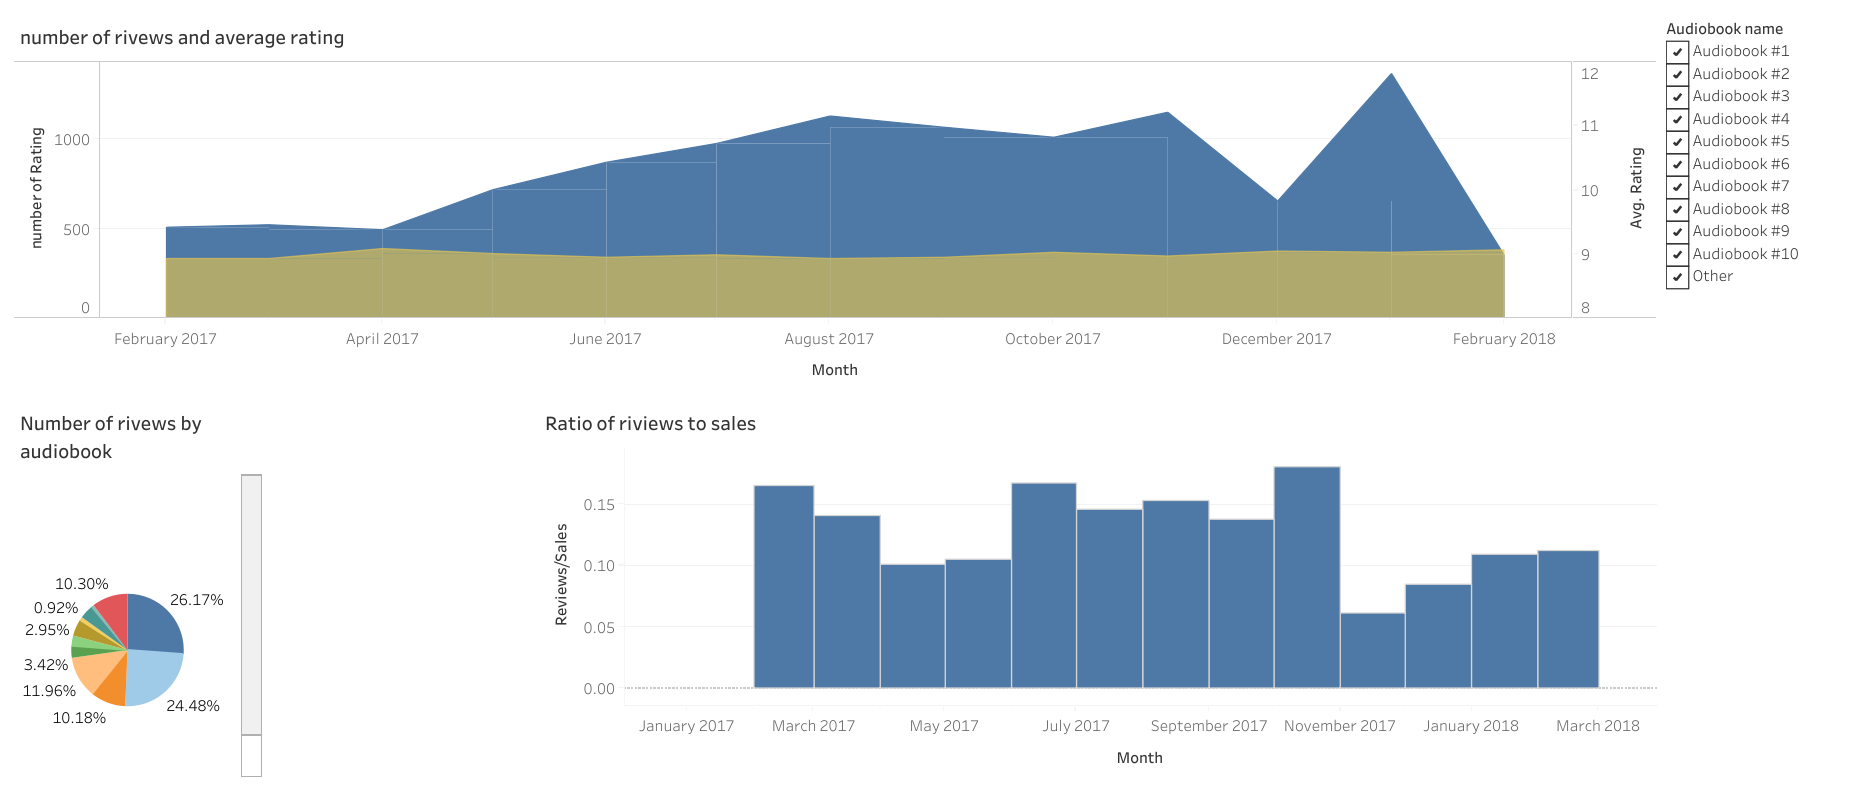

Layout of this report page (visuals, bound fields, positions):
{"tool":"tableau","page":{"name":"Dashboard 1","canvas":[1000,1000],"units":"permille","ordinal":0},"visuals":[{"type":"worksheet","title":"chart 1","mark":"Area","rows":["Rating","Rating"],"cols":["Review Date"],"box":[11.5,9.4,746.8,490.6]},{"type":"filter","title":"pie chart 1","param":"[federated.0k44szy0wn37w310qkmq012pbpx9].[none:Audiobook name:nk]","box":[758.3,9.4,230.2,381.9]},{"type":"worksheet","title":"pie chart 1","mark":"Pie","box":[11.5,500,237.4,490.6]},{"type":"worksheet","title":"Sheet 7","mark":"Bar","rows":["Calculation_928023056775417867"],"cols":["Date of Purchase"],"box":[248.9,500,509.4,490.6]}]}

Visuals, with their boxes on the dashboard's canvas, which has no fixed pixel size, in thousandths of its width and height (x1, y1, x2, y2). These are canvas units, not pixel positions in the 1870x790 screenshot, which may show the page scaled, cropped or inside an application window:
"chart 1" worksheet (Area marks): pyautogui.locateOnScreen(12, 9, 758, 500)
"pie chart 1" filter: pyautogui.locateOnScreen(758, 9, 988, 391)
"pie chart 1" worksheet (Pie marks): pyautogui.locateOnScreen(12, 500, 249, 991)
"Sheet 7" worksheet (Bar marks): pyautogui.locateOnScreen(249, 500, 758, 991)
